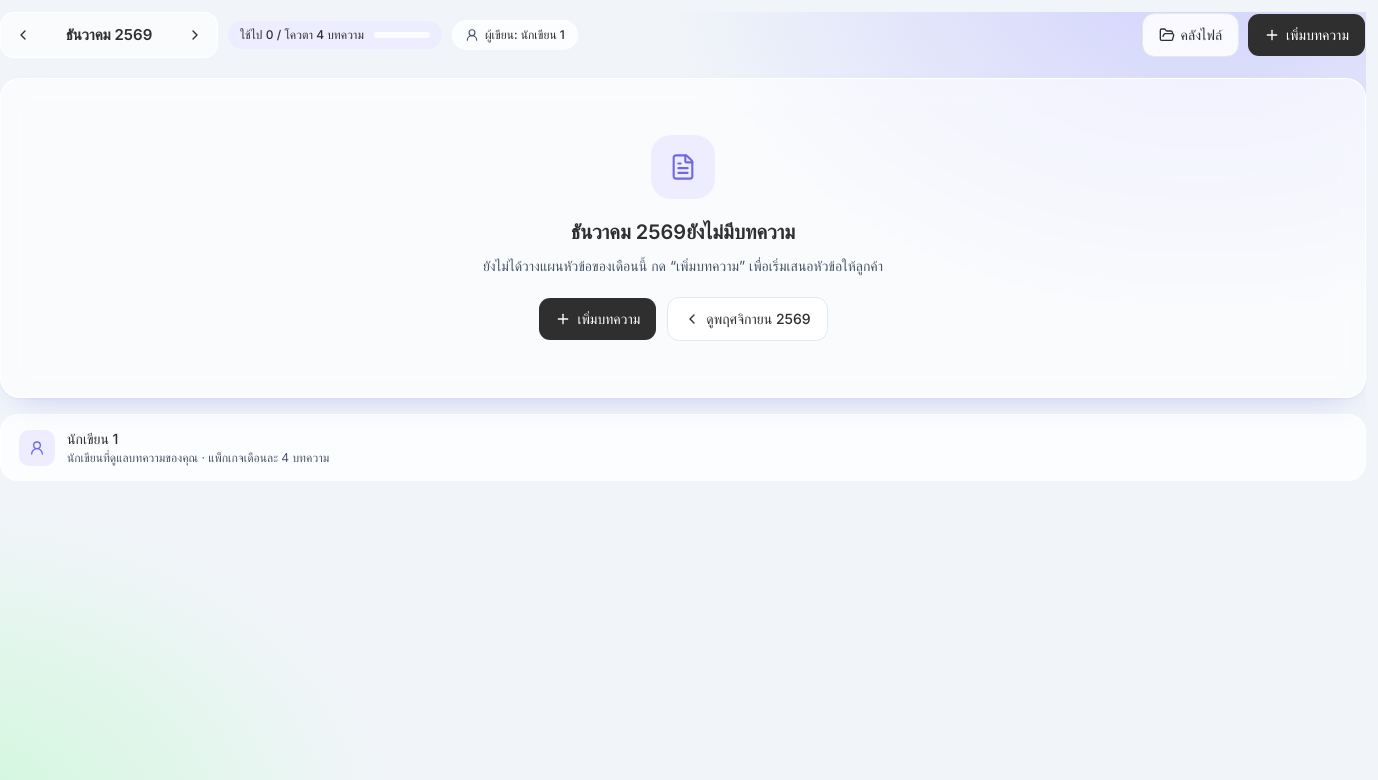
Test case: BlogPlanBoard › เลื่อนเดือนไปข้างหน้าข้ามปีได้
Click the button named "เดือนถัดไป" at (195, 35), box [177,17,213,53]
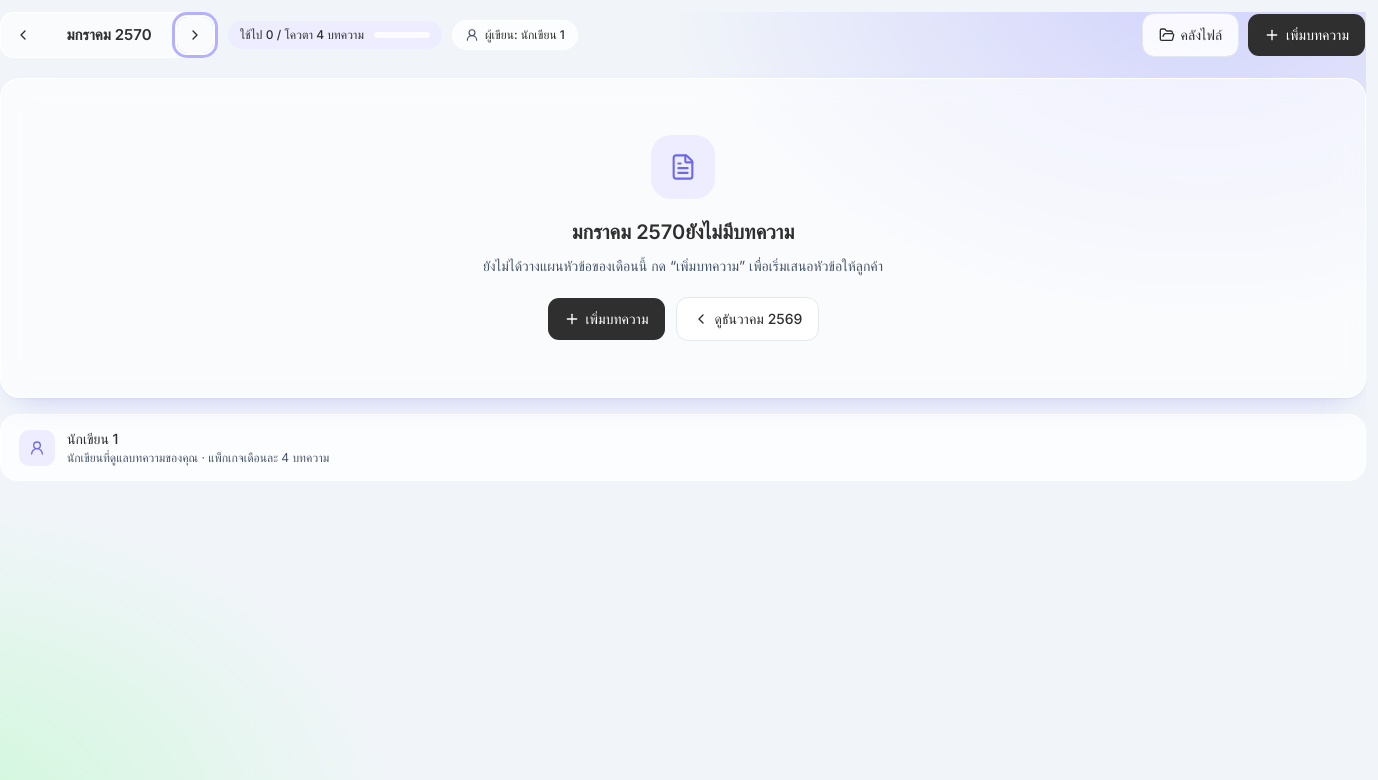
Result: the text "มกราคม 2570" is shown at [66,25,152,44]
